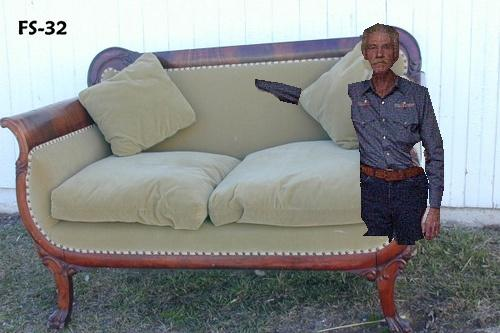tampered: (256, 24, 444, 245)
